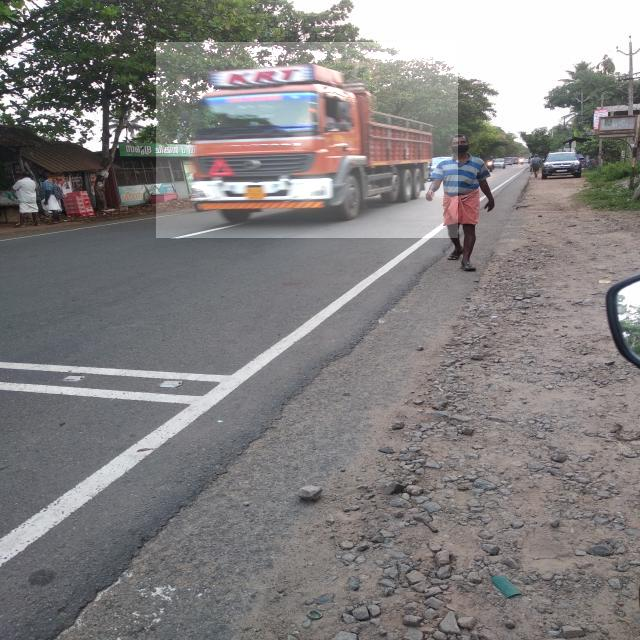Truck: (156, 42, 458, 238)
